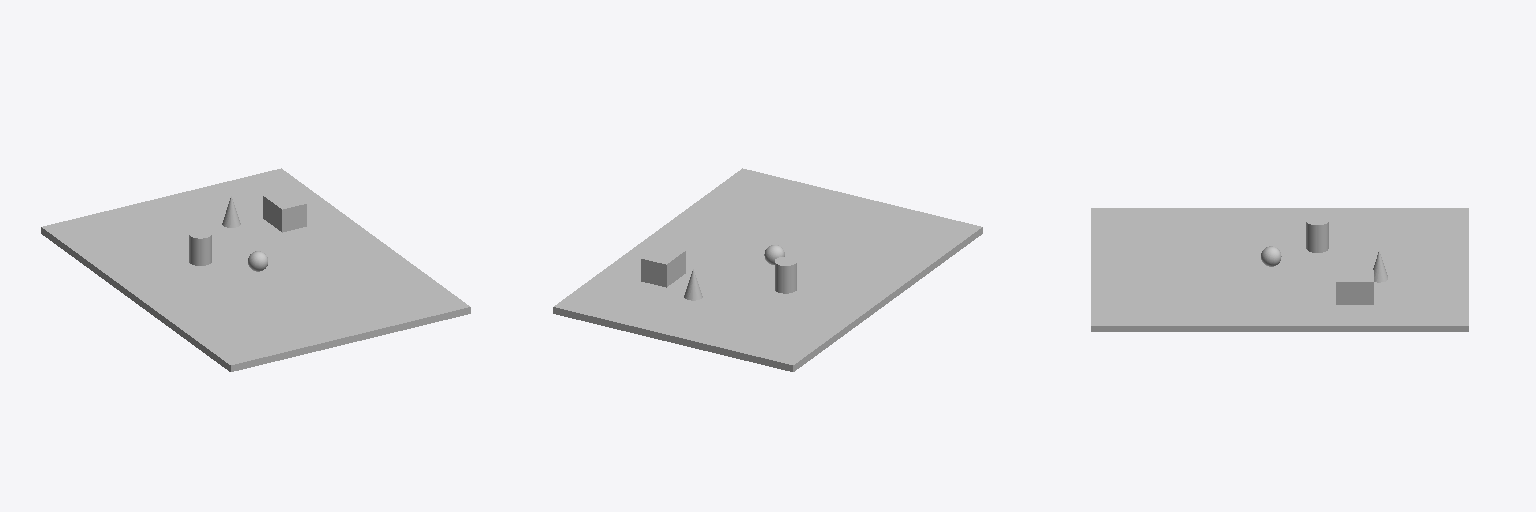
Rendered from simple2.obj.
The picture shows the model from 3 angles: view 1: azimuth 30°, elevation 25°; view 2: azimuth 150°, elevation 25°; view 3: azimuth 270°, elevation 25°; orthographic projection.
Size of the model in its own units: 23.02 by 3.27 by 31.43.